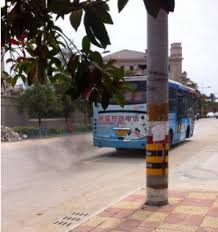smoke: (43, 136, 94, 163)
